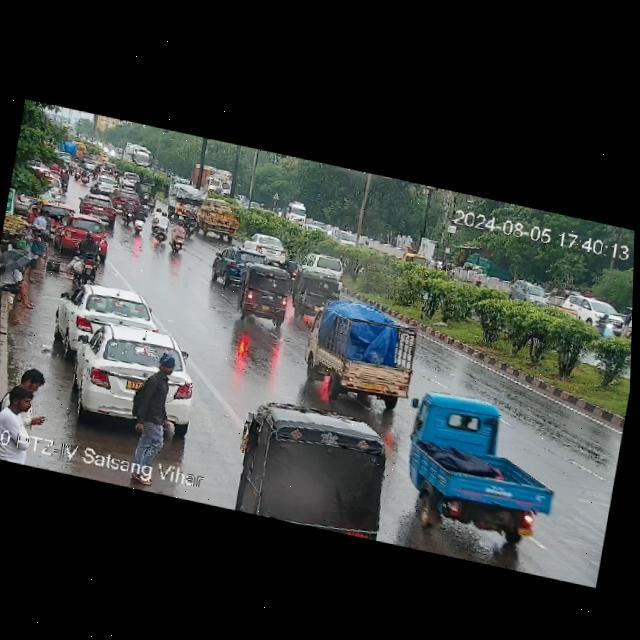bus: (123, 141, 155, 167)
car: (401, 378, 559, 551), (225, 392, 393, 541), (66, 314, 193, 395), (58, 277, 156, 354), (234, 260, 298, 329), (287, 265, 340, 330), (561, 292, 621, 332), (50, 201, 88, 252), (249, 231, 295, 265), (79, 190, 120, 221), (304, 251, 347, 276), (516, 278, 547, 304), (91, 174, 123, 195), (112, 189, 139, 212), (138, 181, 158, 207), (620, 301, 632, 341), (45, 177, 63, 201), (119, 171, 139, 190), (100, 163, 114, 179)
motorcycle: (208, 246, 251, 289), (70, 229, 106, 273), (147, 206, 172, 243), (168, 219, 188, 255), (132, 199, 147, 238), (67, 161, 91, 185), (119, 195, 135, 222), (183, 209, 196, 239), (61, 170, 72, 194), (93, 162, 103, 176), (91, 184, 100, 193)
person: (132, 341, 184, 486), (0, 331, 44, 465), (26, 206, 58, 260), (2, 261, 37, 305), (21, 228, 45, 283)
truck: (306, 293, 432, 416), (193, 195, 250, 244), (190, 163, 235, 199), (163, 182, 202, 219)
